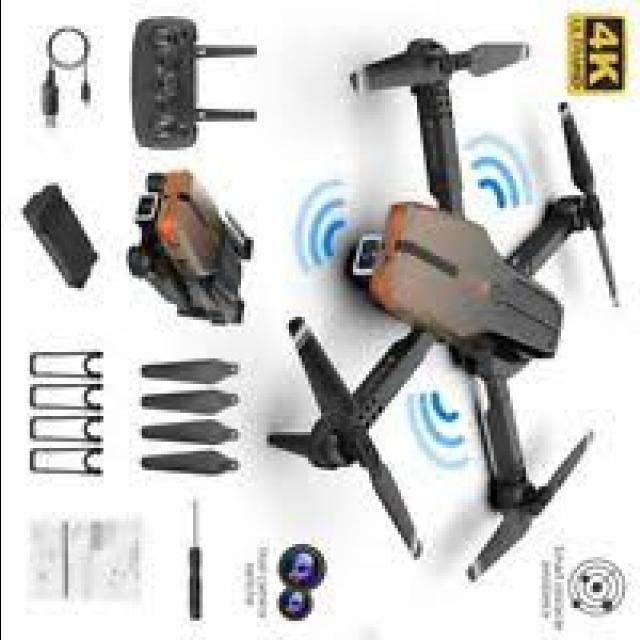drone: (258, 4, 616, 568)
